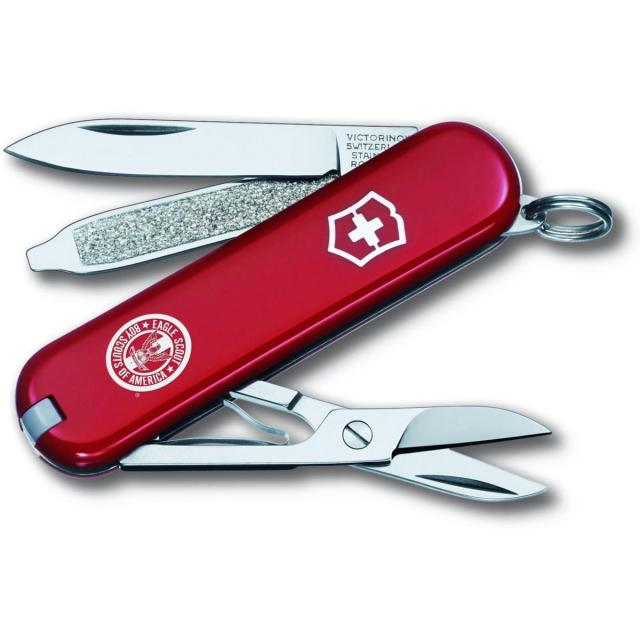knife victorinox: (16, 122, 520, 470)
tie fighter: (329, 264, 341, 275)
